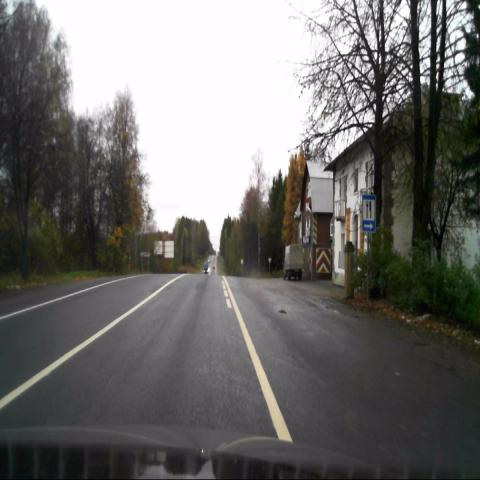7_7: (362, 194, 376, 232)
